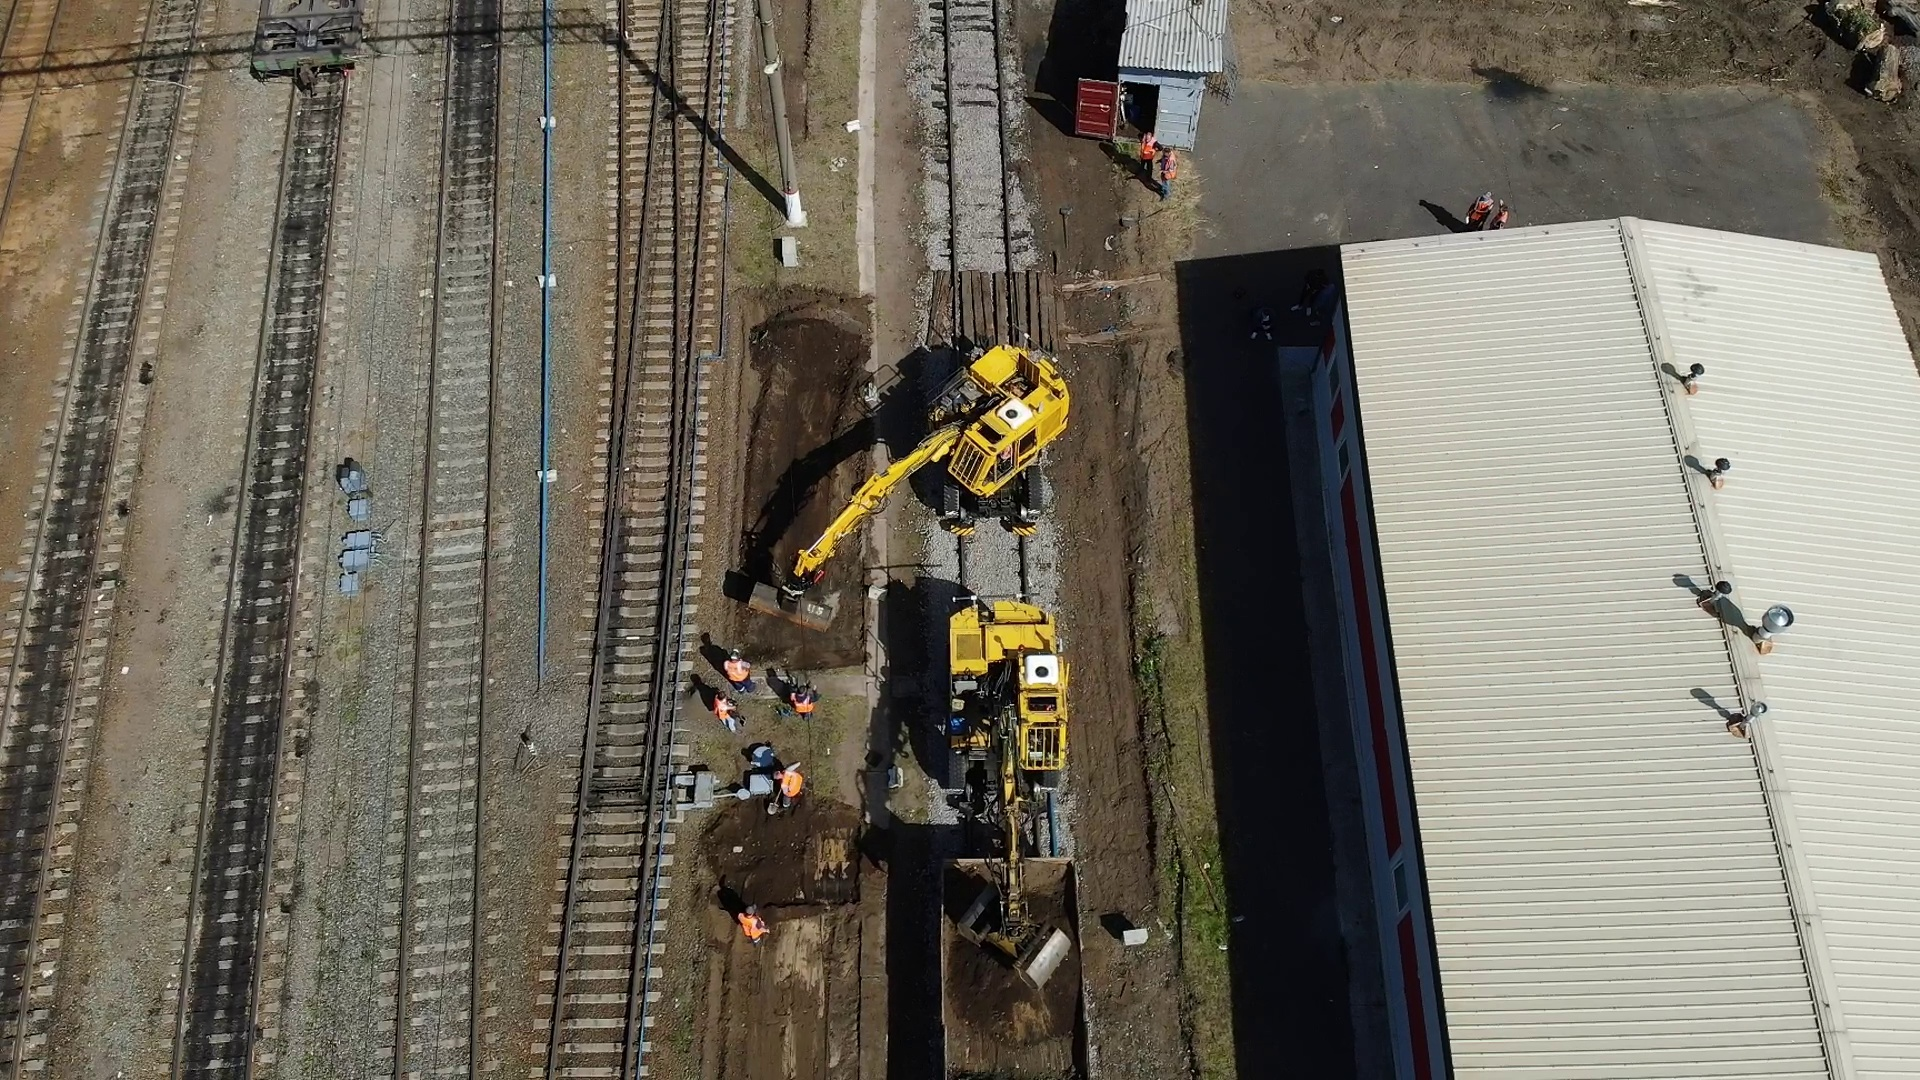kjtv: (931, 338, 1060, 524), (945, 595, 1068, 787)
